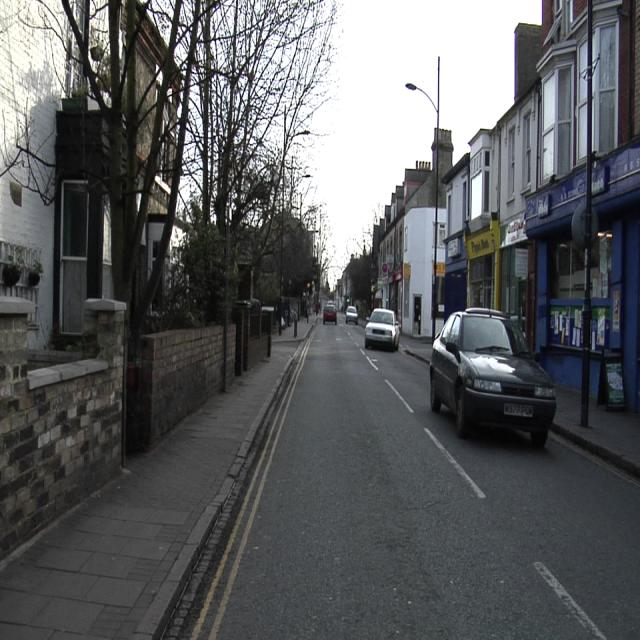Building: (374, 1, 639, 411)
Car: (430, 309, 555, 444), (366, 309, 399, 351), (324, 303, 336, 323), (346, 307, 358, 323)
Road: (208, 324, 638, 639)
Tree: (66, 3, 339, 331), (282, 213, 318, 297), (254, 232, 280, 305)
